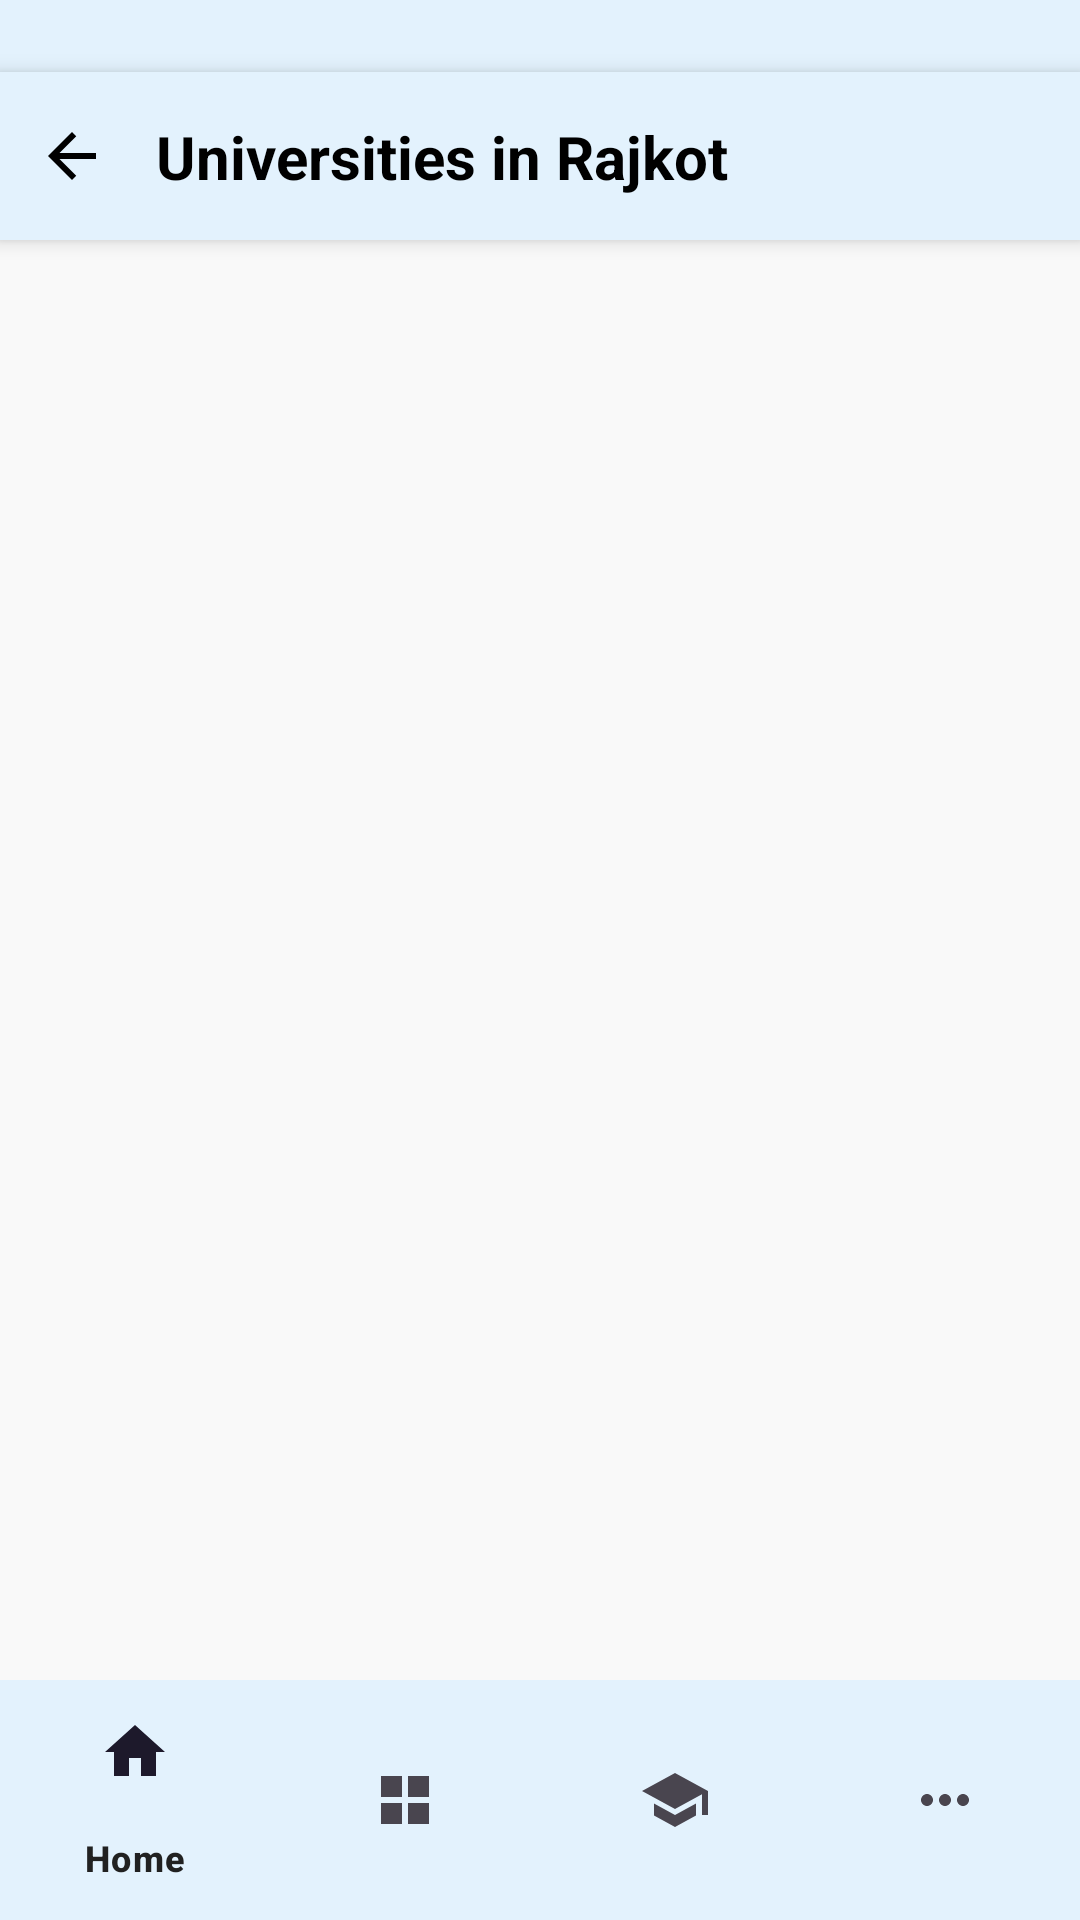

Named icons in this screenshot (1080*1920) and their bounding boxes, (x1, y1, x2, y2):
Back: (48, 132, 96, 180)
